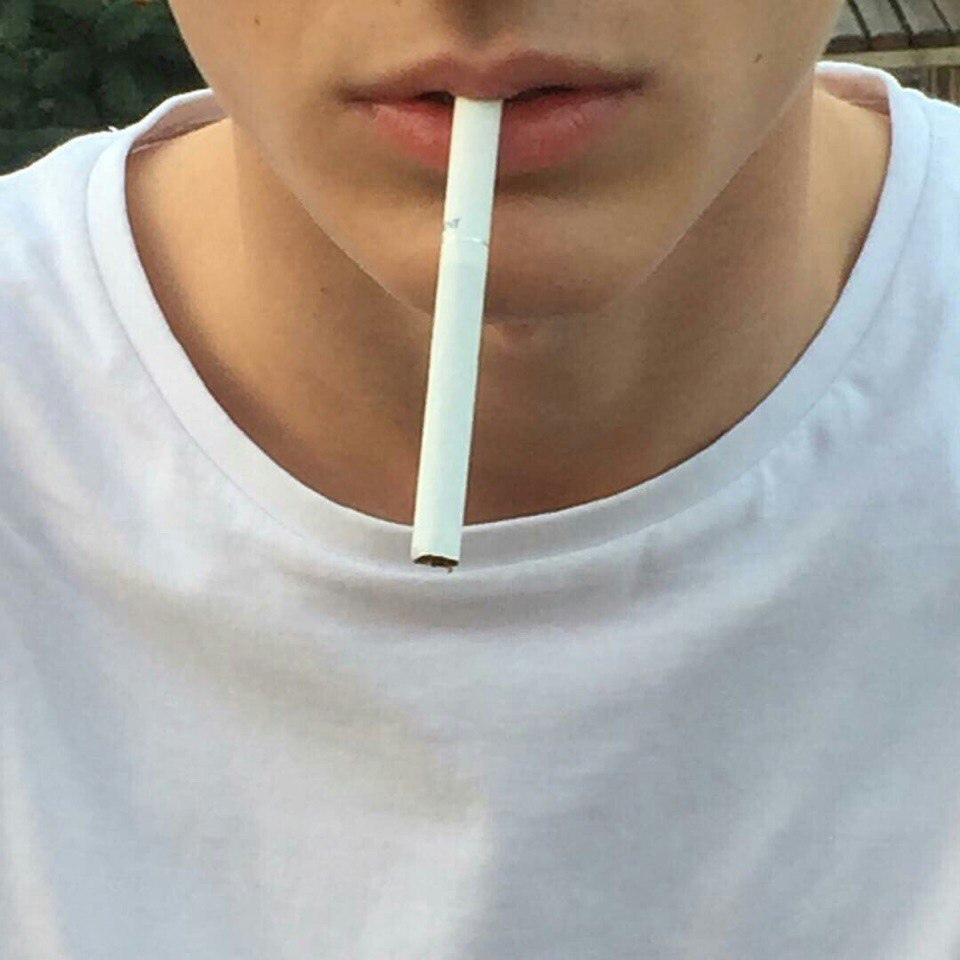cigarette: (411, 98, 502, 567)
